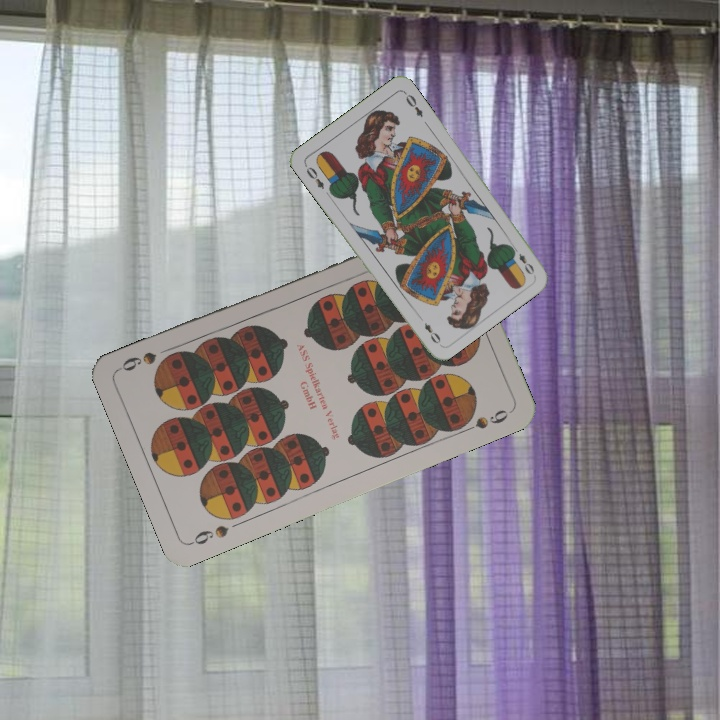EO: (508, 242, 537, 277), (301, 160, 327, 192)
S9: (186, 521, 232, 548)
